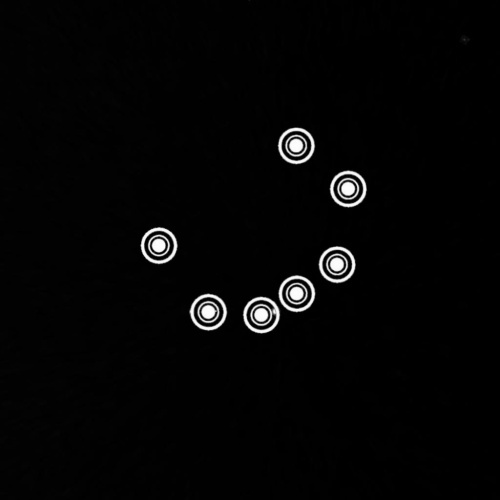corona_borealis: (136, 118, 372, 336)
